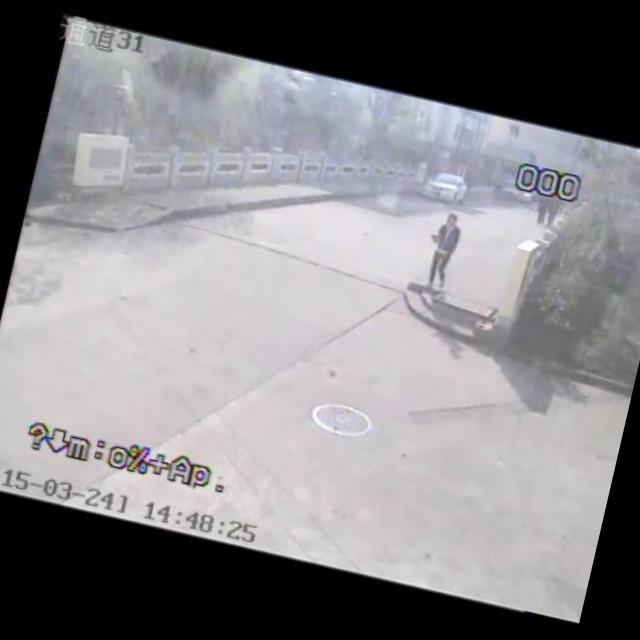person: (419, 206, 469, 290), (540, 195, 568, 228), (531, 188, 553, 230)
